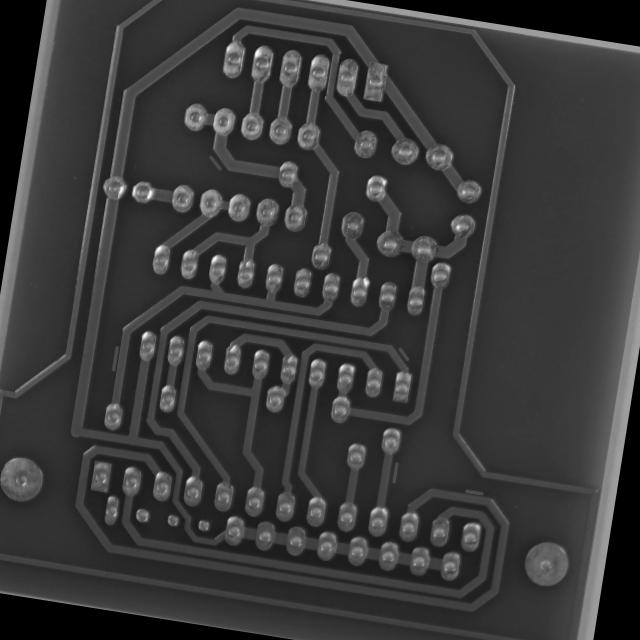spurious_copper: (105, 340, 123, 374), (385, 458, 405, 486), (202, 152, 226, 174), (393, 342, 414, 366), (462, 483, 486, 502)
